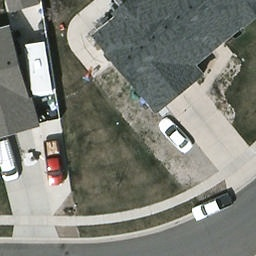camping car: (22, 43, 55, 94)
car: (158, 116, 196, 155)
pickup: (191, 192, 236, 222), (40, 140, 66, 183)
van: (0, 138, 22, 184)
